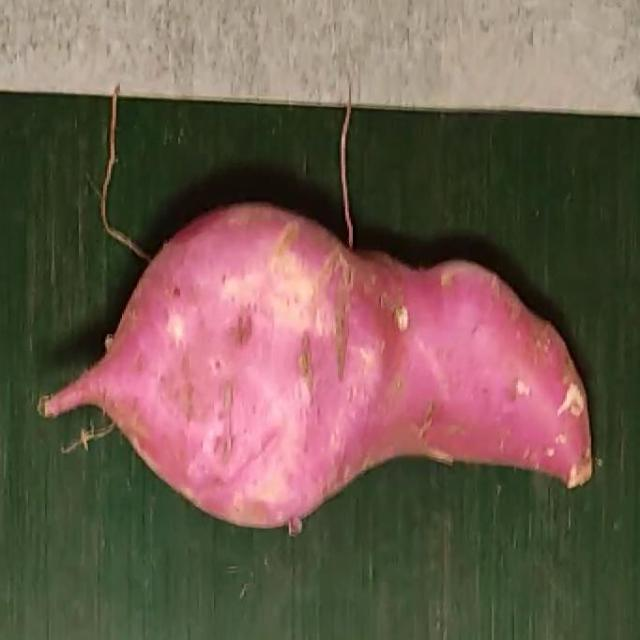Sweet Potato: (38, 203, 596, 536)
